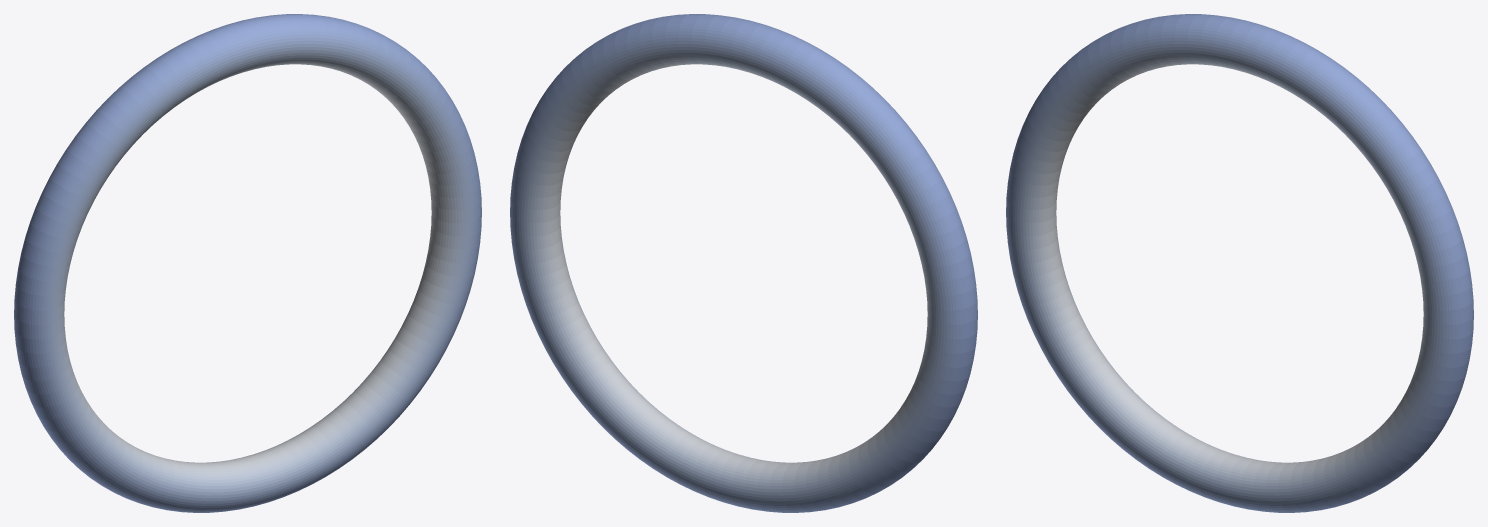
3 views of the same model, side by side, from view 1: azimuth 30°, elevation 25°; view 2: azimuth 150°, elevation 25°; view 3: azimuth 330°, elevation 25° (orthographic).
Parts seen in each view (by area): view 1: world; view 2: world; view 3: world.
Boxes of the visible parts, <box> form: world: <box>14,14,481,512</box>; world: <box>510,14,977,512</box>; world: <box>1006,14,1473,512</box>.
Size of the model in its own units: 32.4 by 32.4 by 3.06.
